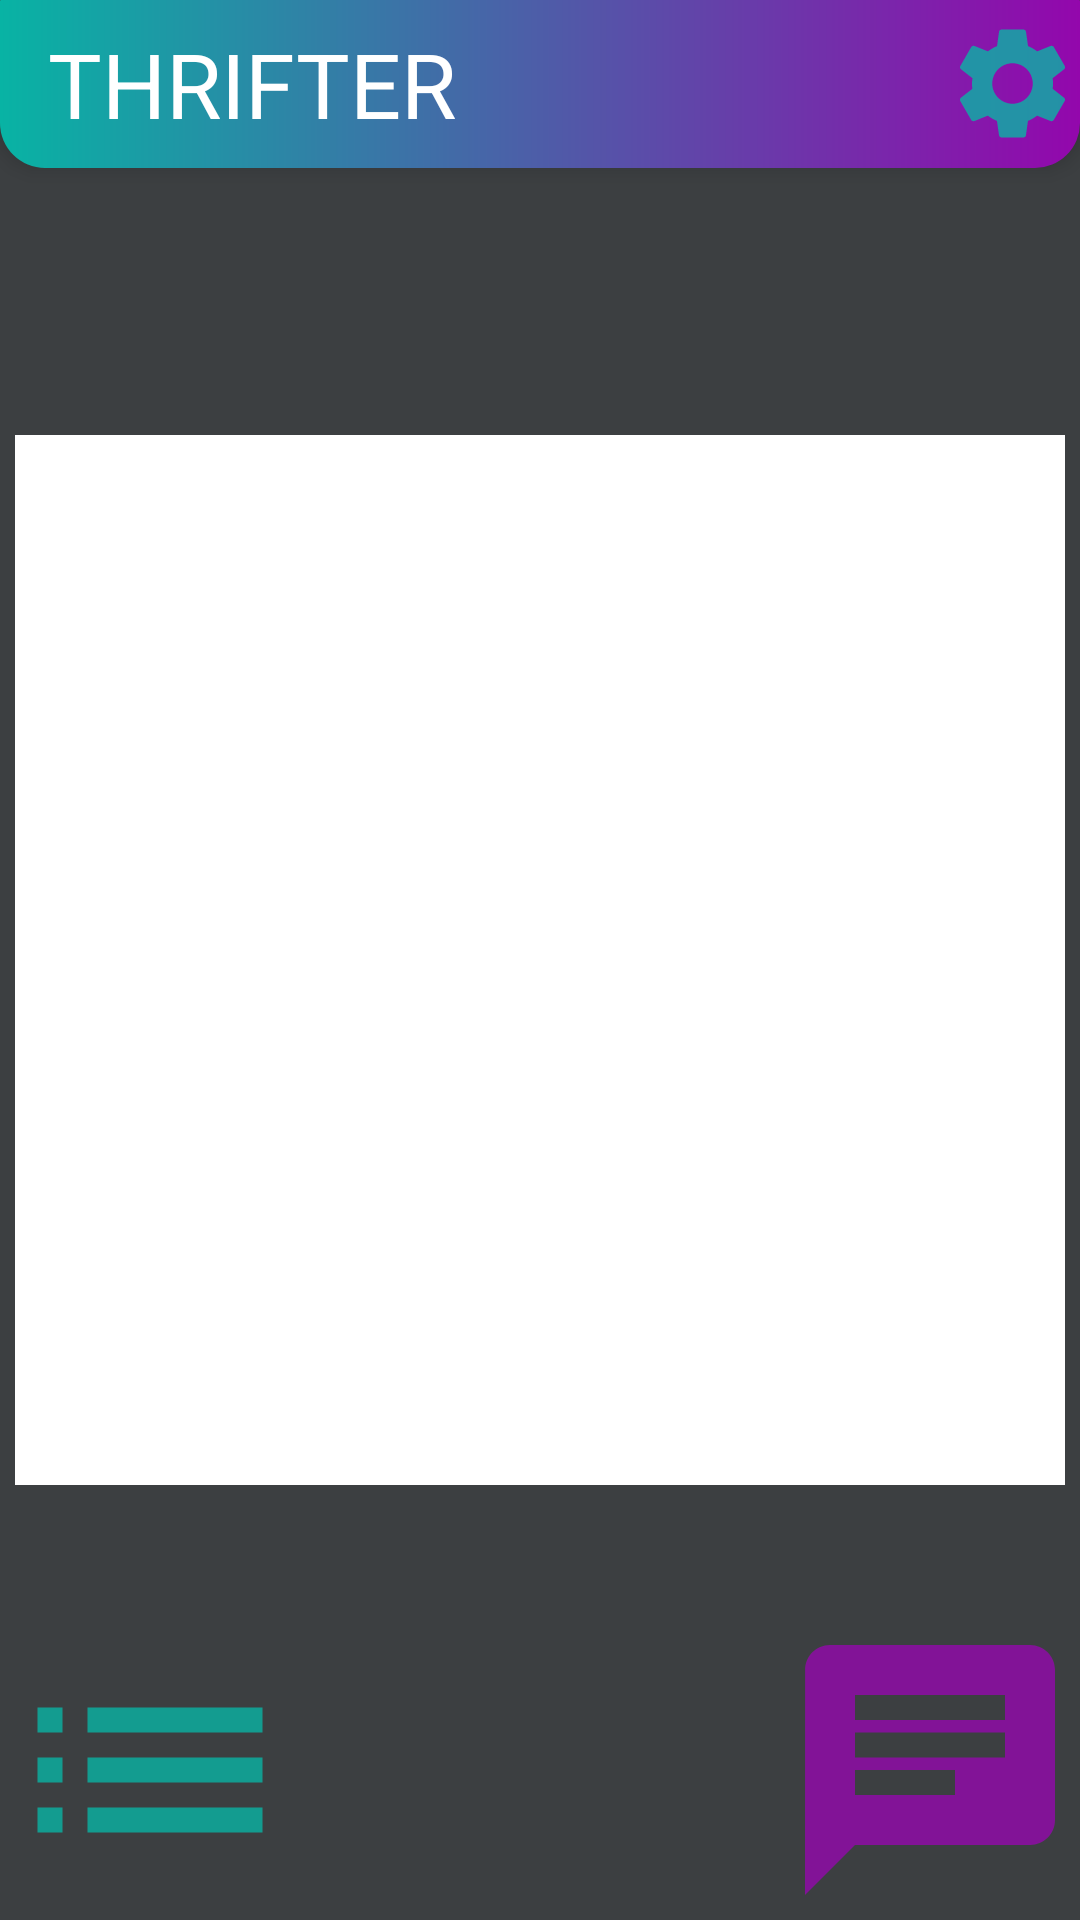

Icons on this 1080 × 1920 Android screen, each with its box as Rect(x1, y1, x2, y2):
chat: Rect(805, 1645, 1055, 1895)
list: Rect(37, 1707, 263, 1833)
settings: Rect(960, 29, 1065, 138)
